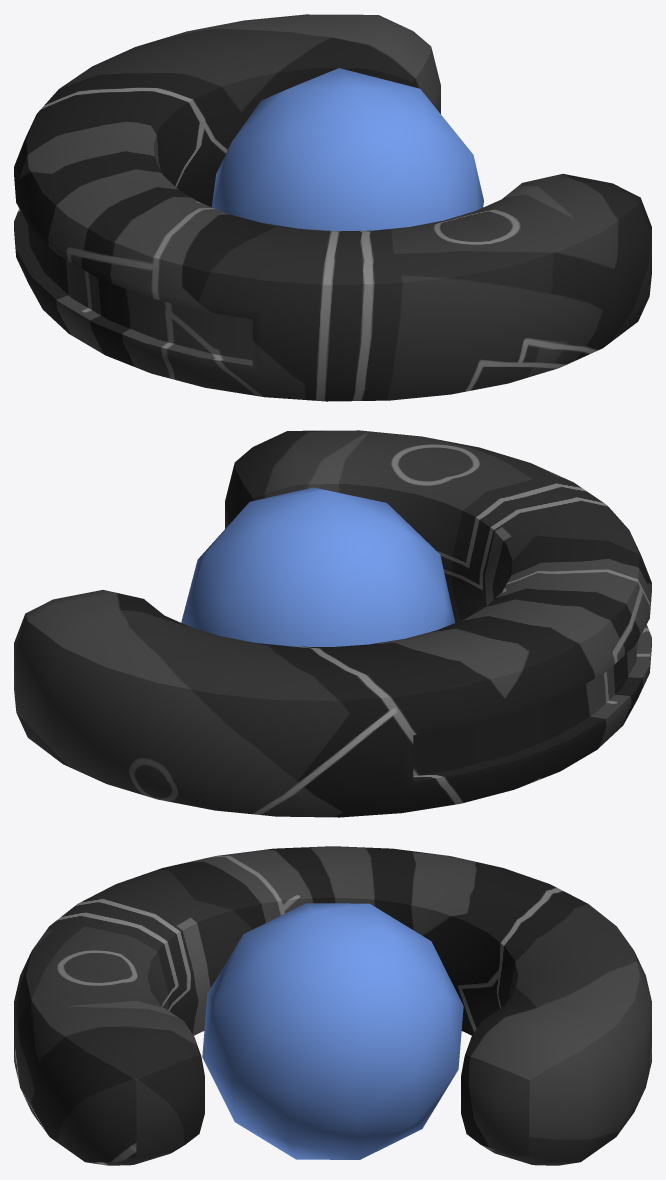
The model's file is small scout enemy.fbx.
3 renders of one model, top to bottom at view 1: azimuth 30°, elevation 25°; view 2: azimuth 150°, elevation 25°; view 3: azimuth 270°, elevation 25°, orthographic. The views are drawn at different scales.
Parts seen in each view (by area): view 1: Circle, Icosphere; view 2: Circle, Icosphere; view 3: Circle, Icosphere.
Part boxes in pixels (x1,y1,x2,y2): Circle: [14, 14, 651, 401]; Icosphere: [212, 68, 483, 230]; Circle: [14, 430, 651, 817]; Icosphere: [181, 487, 455, 646]; Circle: [14, 846, 651, 1165]; Icosphere: [202, 903, 463, 1159].
Size of the model in its own units: 281 by 140 by 338.
